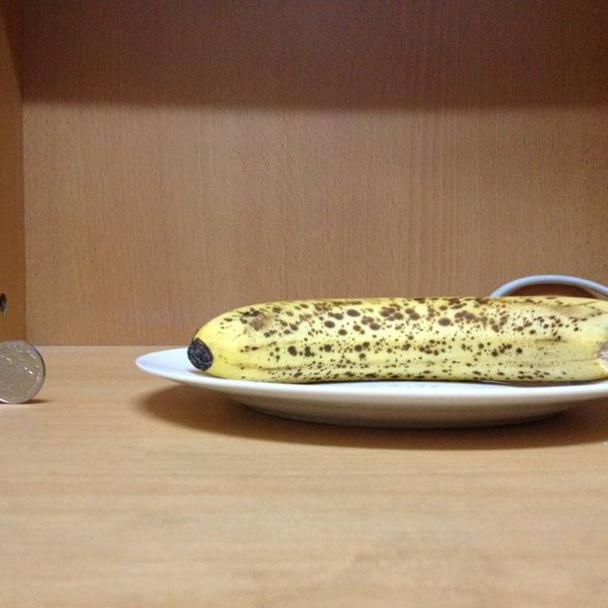banana: (183, 288, 607, 390)
